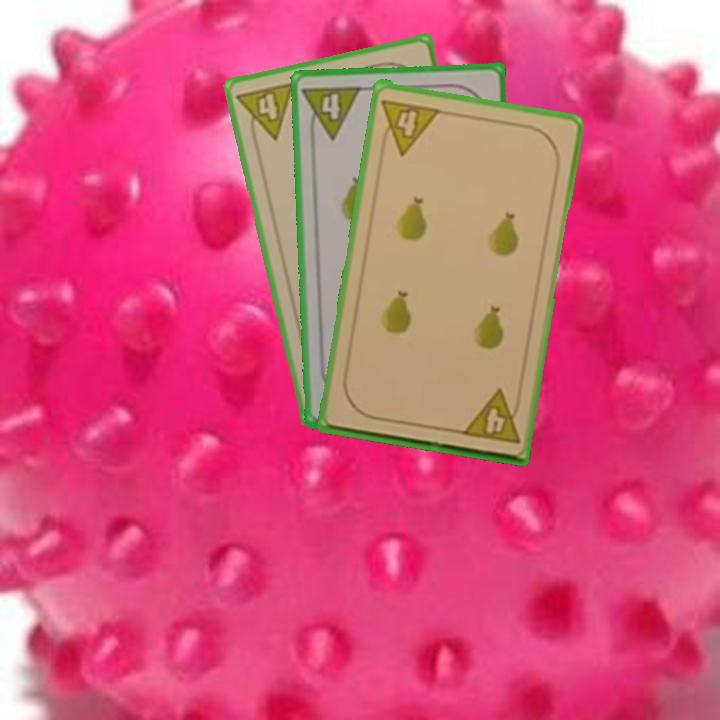4p: (233, 78, 297, 147), (376, 95, 443, 157), (457, 386, 524, 447), (299, 81, 364, 143)
